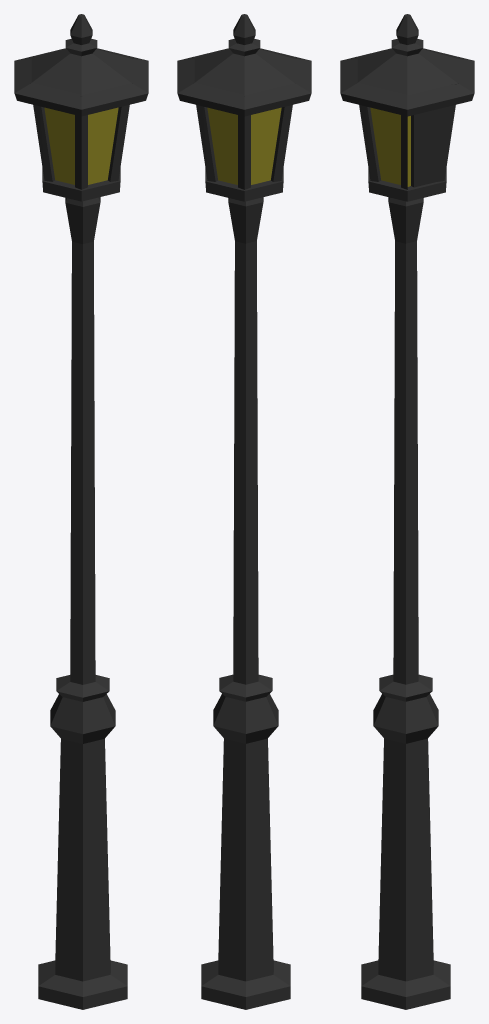
Rendered from SM_lamp_01.fbx.
The picture shows the model from 3 angles, left to right: view 1: azimuth 90°, elevation 25°; view 2: azimuth 150°, elevation 25°; view 3: azimuth 270°, elevation 25°; orthographic projection.
Visible parts, largest first — view 1: Cylinder004; view 2: Cylinder004; view 3: Cylinder004.
Boxes of the visible parts, x1=… form: Cylinder004: x1=14, y1=14, x2=148, y2=1009; Cylinder004: x1=177, y1=14, x2=311, y2=1009; Cylinder004: x1=340, y1=14, x2=474, y2=1009.
Size of the model in its own units: 23.79 by 165 by 20.6.
